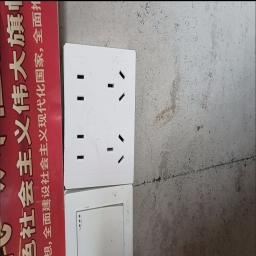outlet: (59, 31, 140, 190)
